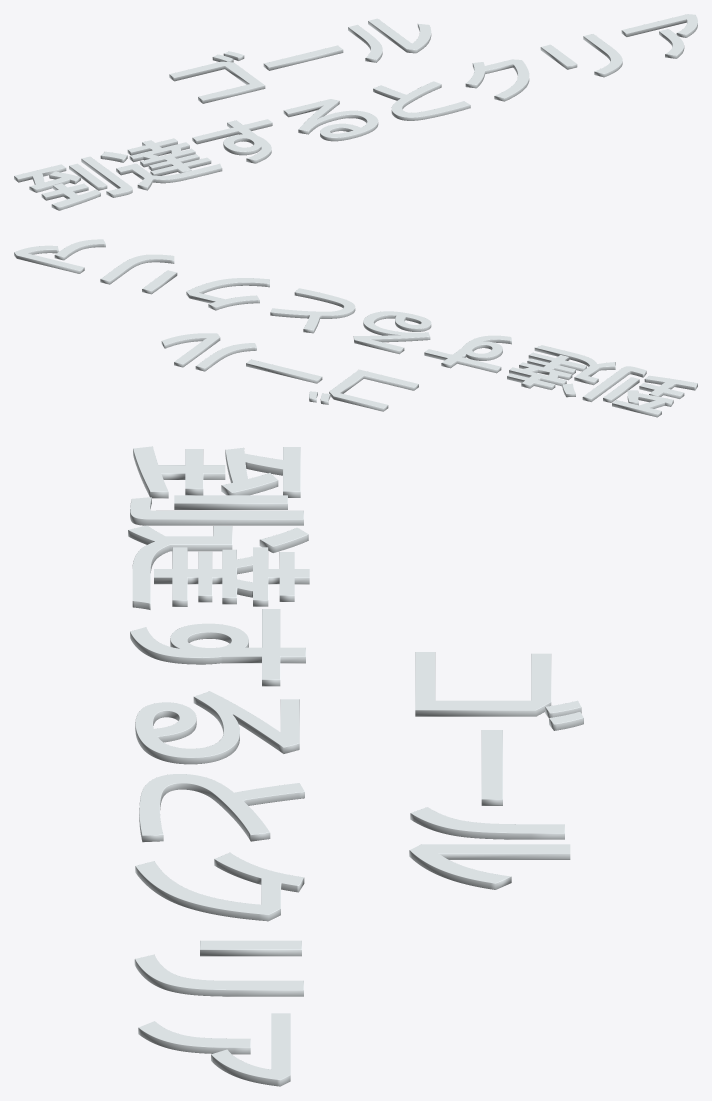
File: stage1_goal.obj
3 views of the same model, one above another, from view 1: azimuth 30°, elevation 25°; view 2: azimuth 150°, elevation 25°; view 3: azimuth 270°, elevation 25° (orthographic). The views are drawn at different scales.
Parts seen in each view (by area): view 1: stage1_goal; view 2: stage1_goal; view 3: stage1_goal.
Part boxes in pixels (<box>): stage1_goal: <box>14,14,697,210</box>; stage1_goal: <box>14,239,697,417</box>; stage1_goal: <box>128,446,583,1086</box>.
Size of the model in its own units: 3.35 by 0.0166 by 1.02.
1 material, 1 textured.
